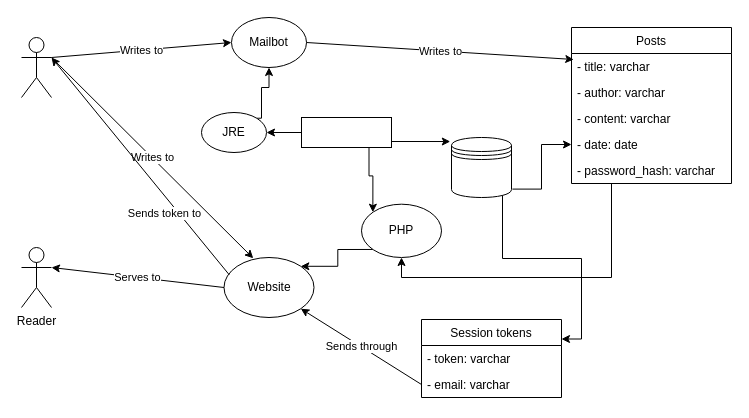
This 749x418 diagram has some shape labels left out. Here are the shapes that lost their labels. From the top down, the centre of each, then its label:
At (x=36, y=67): "Writer".
At (x=346, y=132): "Hardware host".
At (x=481, y=167): "Oracle SQL".
